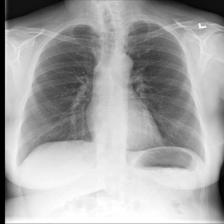normal: (11, 19, 209, 174)
